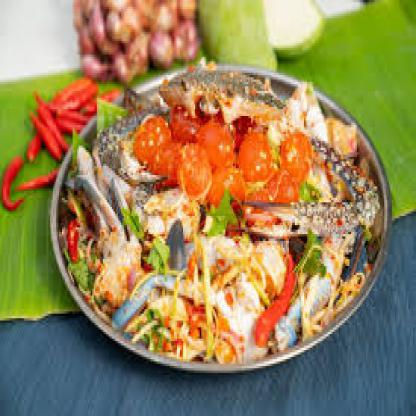Papaya Salad: (48, 46, 390, 387)
